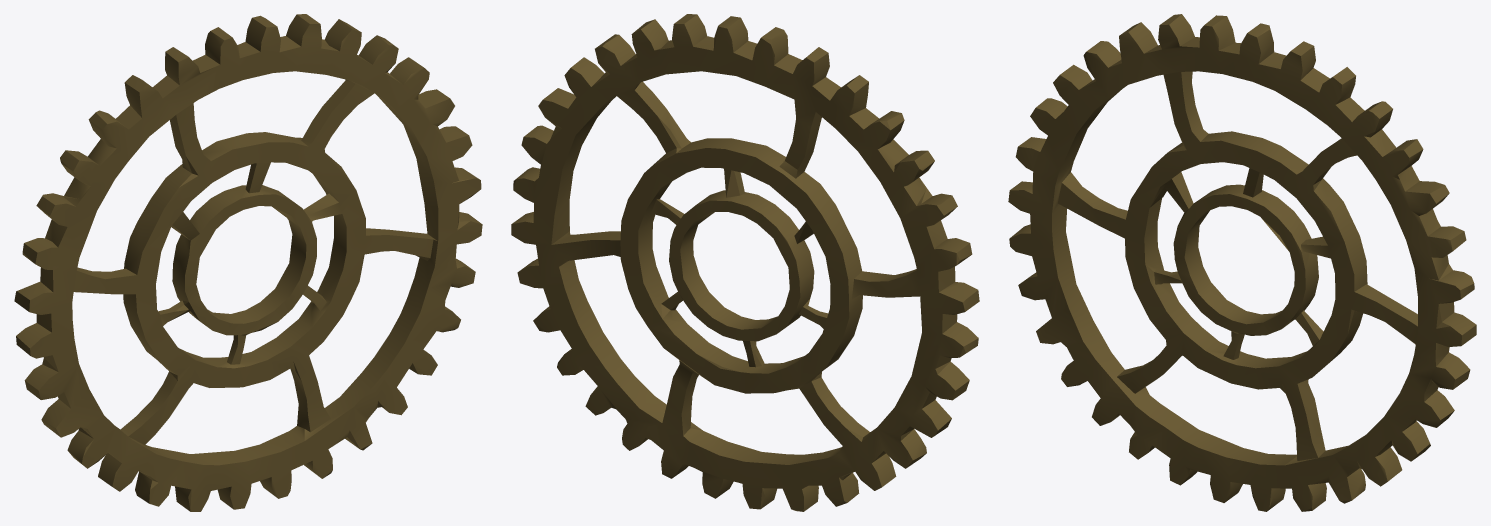
File: SM_gearmid002.fbx
The picture shows the model from 3 angles, left to right: view 1: azimuth 30°, elevation 25°; view 2: azimuth 150°, elevation 25°; view 3: azimuth 330°, elevation 25°; orthographic projection.
Visible parts, largest first — view 1: gear2_low; view 2: gear2_low; view 3: gear2_low.
Boxes of the visible parts, <box> form: gear2_low: <box>14,14,482,511</box>; gear2_low: <box>511,14,979,511</box>; gear2_low: <box>1008,14,1476,511</box>.
Bounding box in the file's own units: 75.96 × 76.01 × 5.37.
